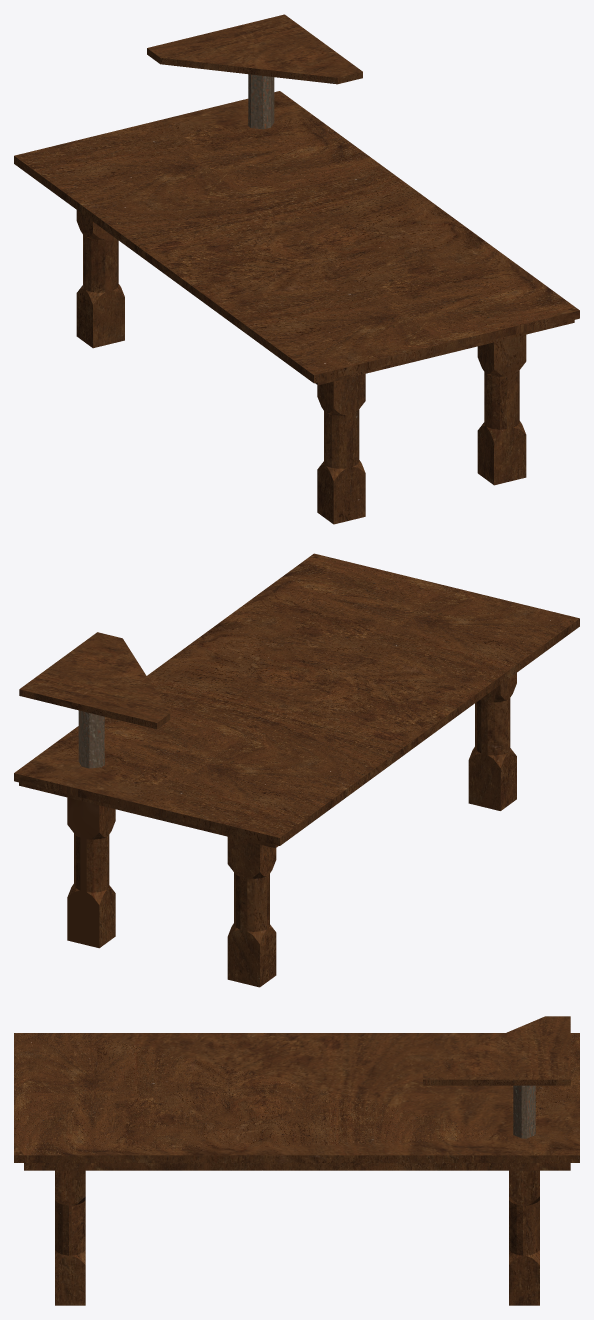
The model's file is Awesome potion desk 1.fbx.
3 renders of one model, top to bottom at view 1: azimuth 30°, elevation 25°; view 2: azimuth 150°, elevation 25°; view 3: azimuth 270°, elevation 25°, orthographic. The views are drawn at different scales.
Parts seen in each view (by area): view 1: Cube, Cube.001; view 2: Cube, Cube.001; view 3: Cube, Cube.001.
Part boxes in pixels (box(x1,y1,x2,y2)): Cube: box(14, 74, 579, 524); Cube.001: box(147, 14, 362, 84); Cube: box(14, 553, 579, 987); Cube.001: box(19, 632, 170, 729); Cube: box(14, 1033, 579, 1305); Cube.001: box(423, 1016, 570, 1085).
Bounding box in the file's own units: 378 × 347 × 738.
